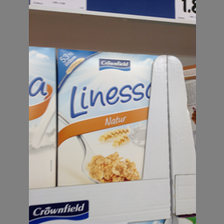cereal: (58, 49, 161, 187), (29, 47, 56, 188)
